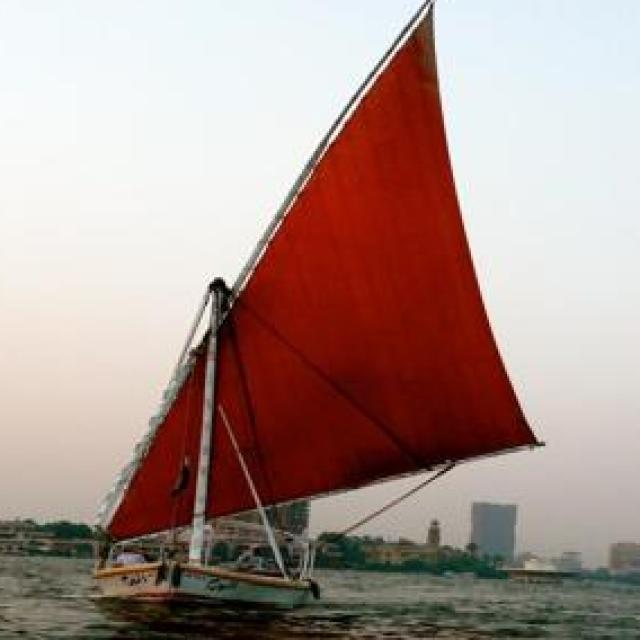sailboat: (92, 0, 549, 608)
